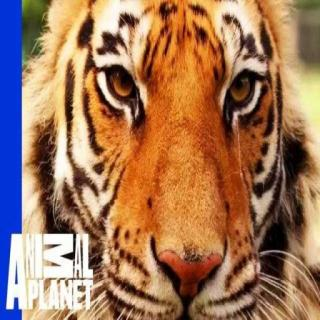Tiger: (38, 0, 310, 312)
